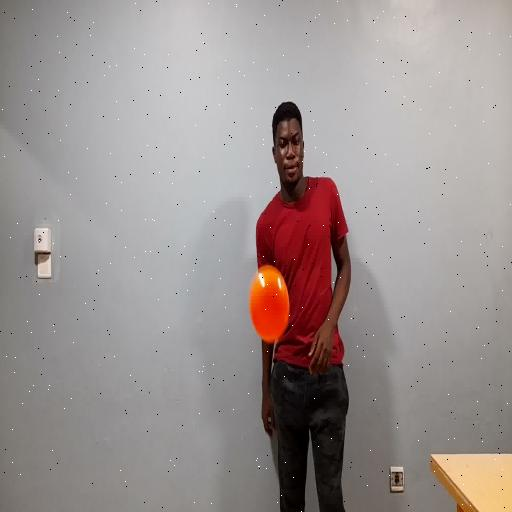plastic-ball: (239, 251, 300, 358)
